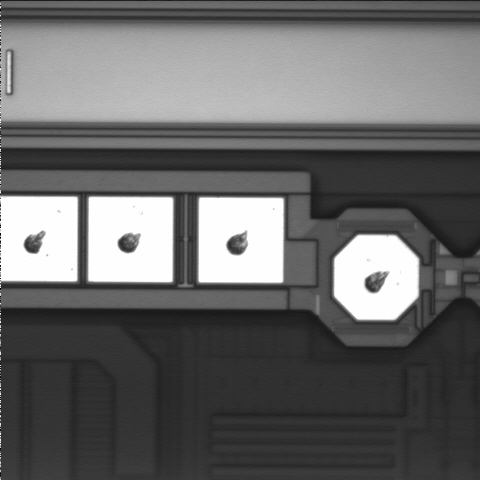pad: (88, 197, 173, 282), (199, 198, 284, 283), (334, 235, 419, 320)
